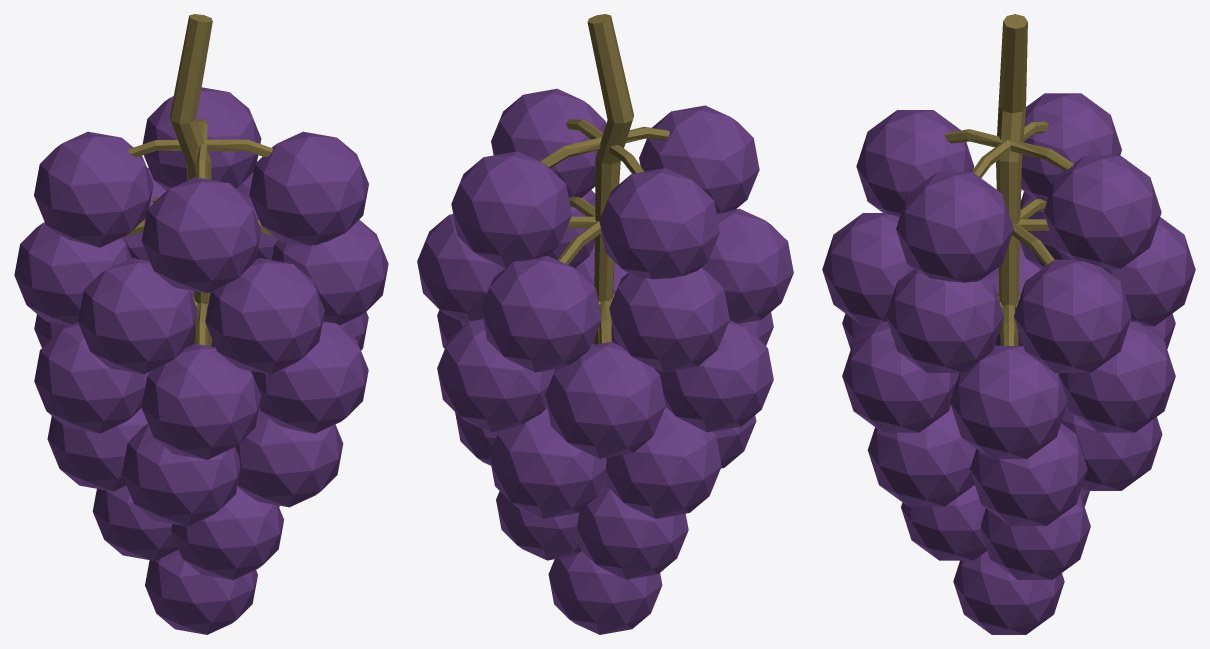
Rendered from grape-bunch-simple-trial.glb.
3 views of the same model, side by side, from view 1: azimuth 30°, elevation 25°; view 2: azimuth 150°, elevation 25°; view 3: azimuth 270°, elevation 25° (orthographic).
Parts seen in each view (by area): view 1: Grape bunch simple; view 2: Grape bunch simple; view 3: Grape bunch simple.
Boxes of the visible parts, <box> form: Grape bunch simple: <box>14,14,388,634</box>; Grape bunch simple: <box>417,14,793,634</box>; Grape bunch simple: <box>822,14,1195,634</box>.
Bounding box in the file's own units: 0.12 × 0.2216 × 0.1221.
